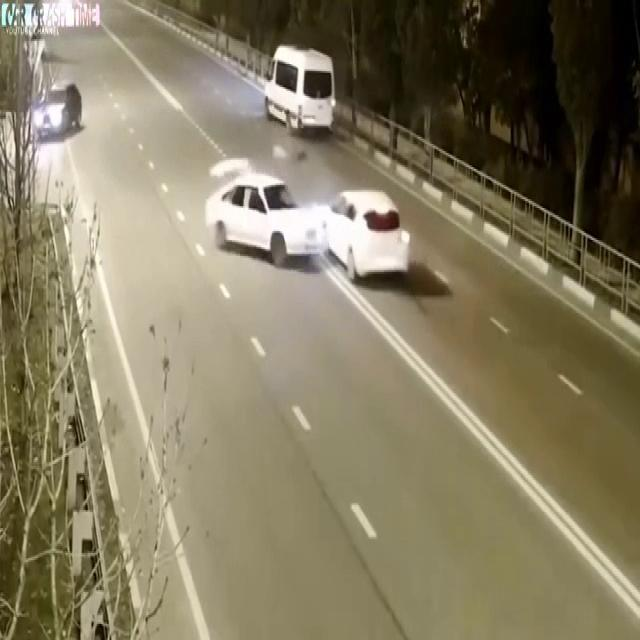accident: (200, 128, 432, 307)
